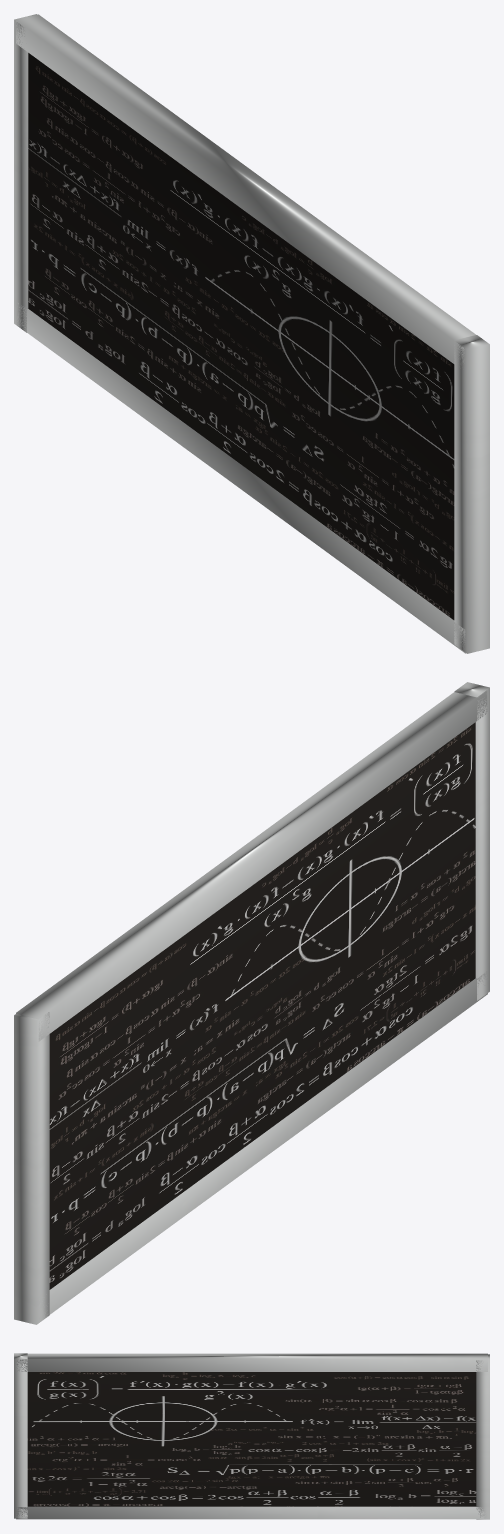
The model's file is cuadre4.fbx.
3 renders of one model, top to bottom at view 1: azimuth 30°, elevation 25°; view 2: azimuth 150°, elevation 25°; view 3: azimuth 270°, elevation 25°, orthographic. The views are drawn at different scales.
Parts seen in each view (by area): view 1: Cube_001, Cube; view 2: Cube_001, Cube; view 3: Cube_001, Cube.
Boxes of the visible parts, left/top/right/bottom form: Cube_001: left=28, top=53, right=454, bottom=619; Cube: left=14, top=14, right=489, bottom=653; Cube_001: left=49, top=722, right=475, bottom=1289; Cube: left=14, top=682, right=489, bottom=1324; Cube_001: left=27, top=1372, right=476, bottom=1506; Cube: left=14, top=1353, right=489, bottom=1519.
Bounding box in the file's own units: 0.1538 × 1.99 × 5.34.
Materials: 5 (5 with a texture image).
